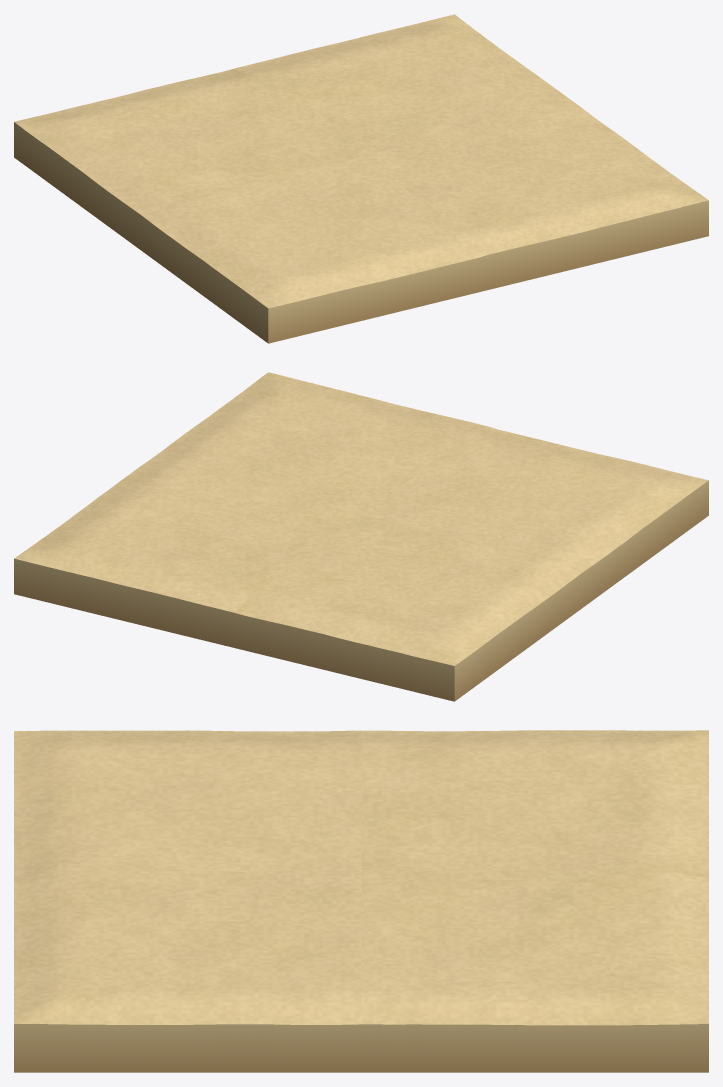
The model's file is Land_Sand.obj.
3 renders of one model, top to bottom at view 1: azimuth 30°, elevation 25°; view 2: azimuth 150°, elevation 25°; view 3: azimuth 270°, elevation 25°, orthographic. The views are drawn at different scales.
Visible parts, largest first — view 1: Land_Sand_Land_Sand_Terrain, Land_Sand_Palette; view 2: Land_Sand_Land_Sand_Terrain, Land_Sand_Palette; view 3: Land_Sand_Land_Sand_Terrain, Land_Sand_Palette.
Part boxes in pixels (x1,y1,x2,y2): Land_Sand_Land_Sand_Terrain: [14, 14, 708, 308]; Land_Sand_Palette: [14, 122, 708, 343]; Land_Sand_Land_Sand_Terrain: [14, 372, 708, 665]; Land_Sand_Palette: [14, 480, 708, 701]; Land_Sand_Land_Sand_Terrain: [14, 730, 708, 1025]; Land_Sand_Palette: [14, 1024, 708, 1072].
Bounding box in the file's own units: 4 × 0.3558 × 4.
2 materials, 2 textured.
